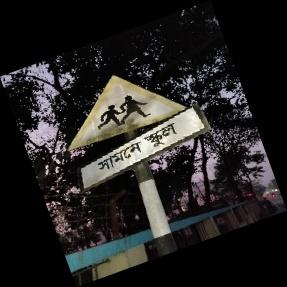School-in-front: (67, 74, 212, 192)
